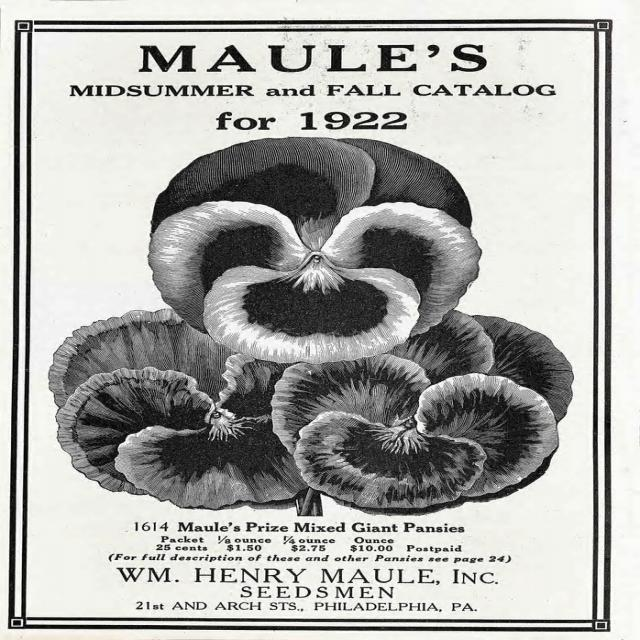Mushroom: (47, 140, 572, 515)
